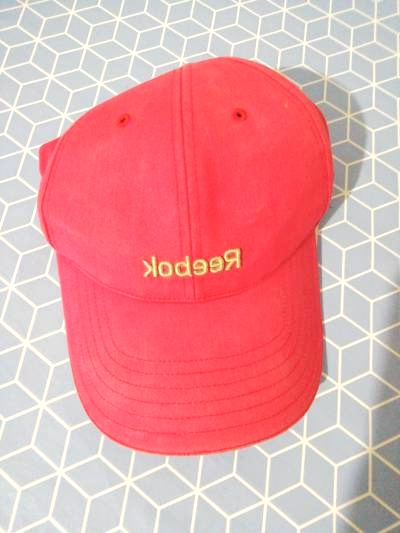Hat: (19, 31, 357, 459)
